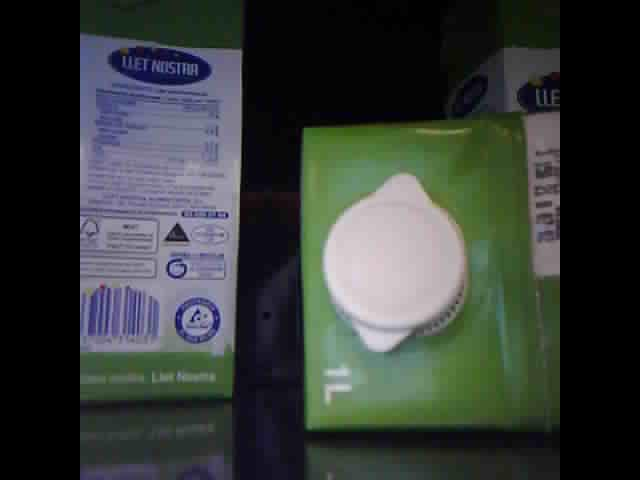leche: (302, 109, 559, 434), (79, 3, 249, 405), (442, 5, 558, 113)
